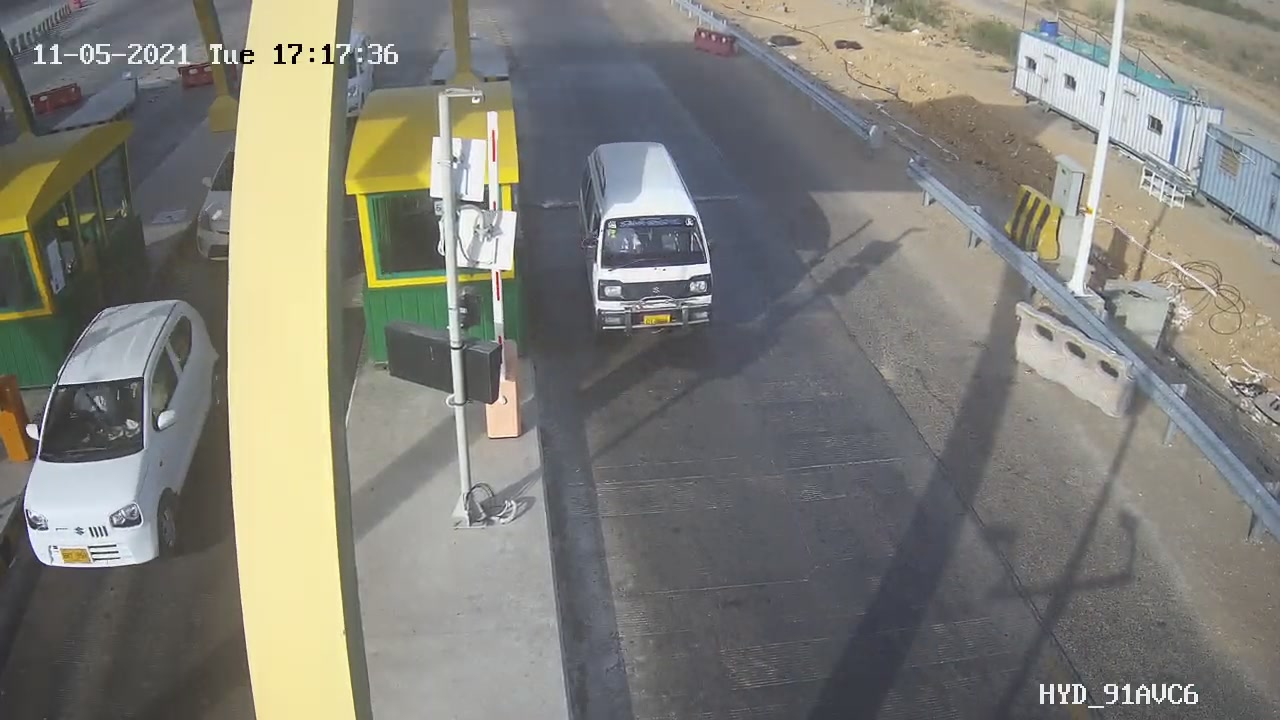F1: (559, 129, 733, 353)
